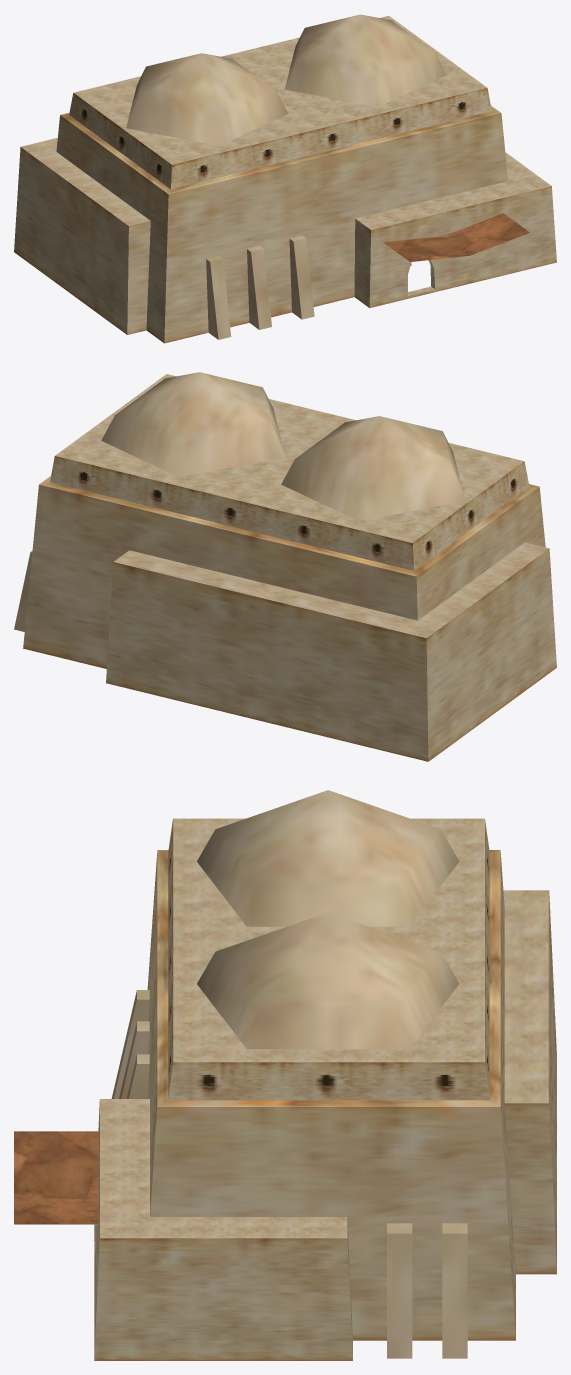
File: thm_tato_imprv_building_s03_r0_mesh_l3.fbx
The picture shows the model from 3 angles, top to bottom: view 1: azimuth 30°, elevation 25°; view 2: azimuth 150°, elevation 25°; view 3: azimuth 270°, elevation 25°; orthographic projection. The views are drawn at different scales.
Parts seen in each view (by area): view 1: mesh_node; view 2: mesh_node; view 3: mesh_node.
Boxes of the visible parts, x1,y1,x2,y2 form: mesh_node: (14,14,556,343); mesh_node: (14,372,556,761); mesh_node: (14,790,556,1360).
Bounding box in the file's own units: 31.65 × 17.06 × 23.73.
1 material, 1 textured.
